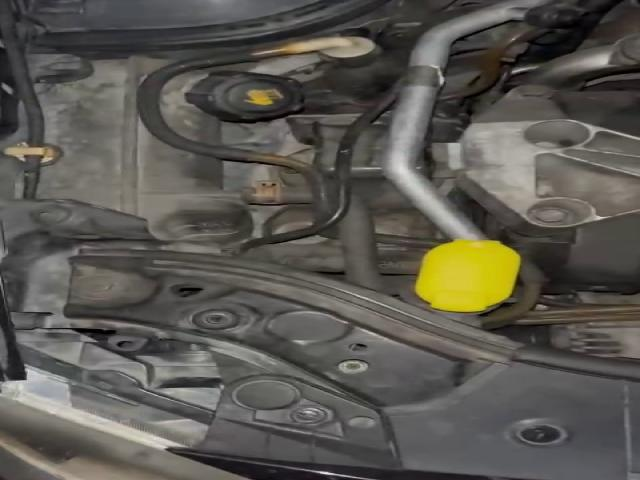antifreeze_tank: (34, 58, 257, 250), (159, 64, 303, 145)
